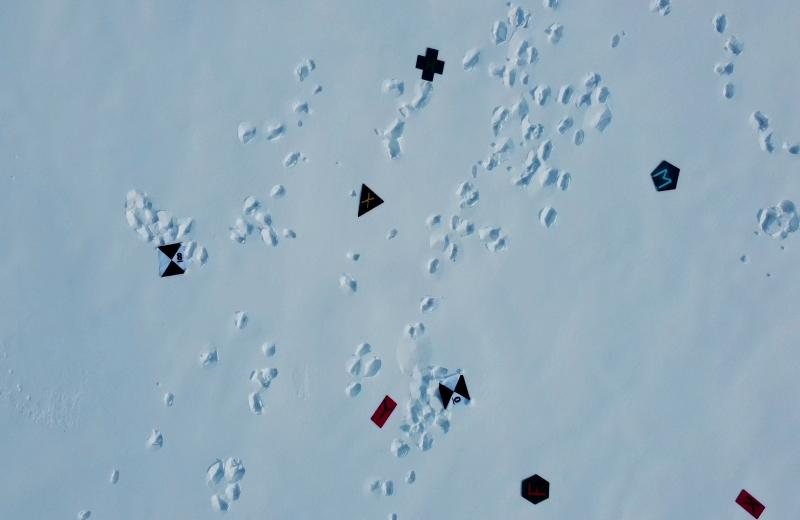Cross: (413, 47, 446, 83)
Hexagon: (519, 473, 553, 506)
Pentagon: (649, 160, 680, 194)
Rectangle: (733, 485, 768, 520), (371, 393, 401, 428)
Triangle: (356, 181, 385, 218)
